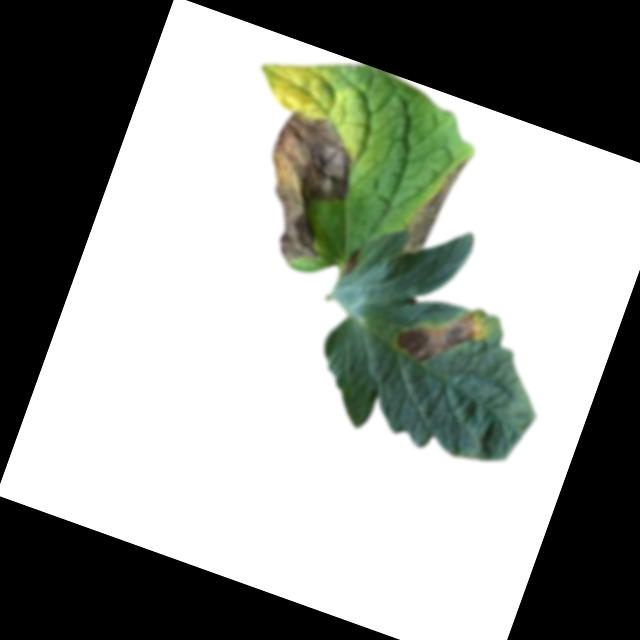Early_blight: (237, 105, 369, 276), (391, 289, 490, 379), (398, 149, 469, 264), (340, 246, 361, 279)
